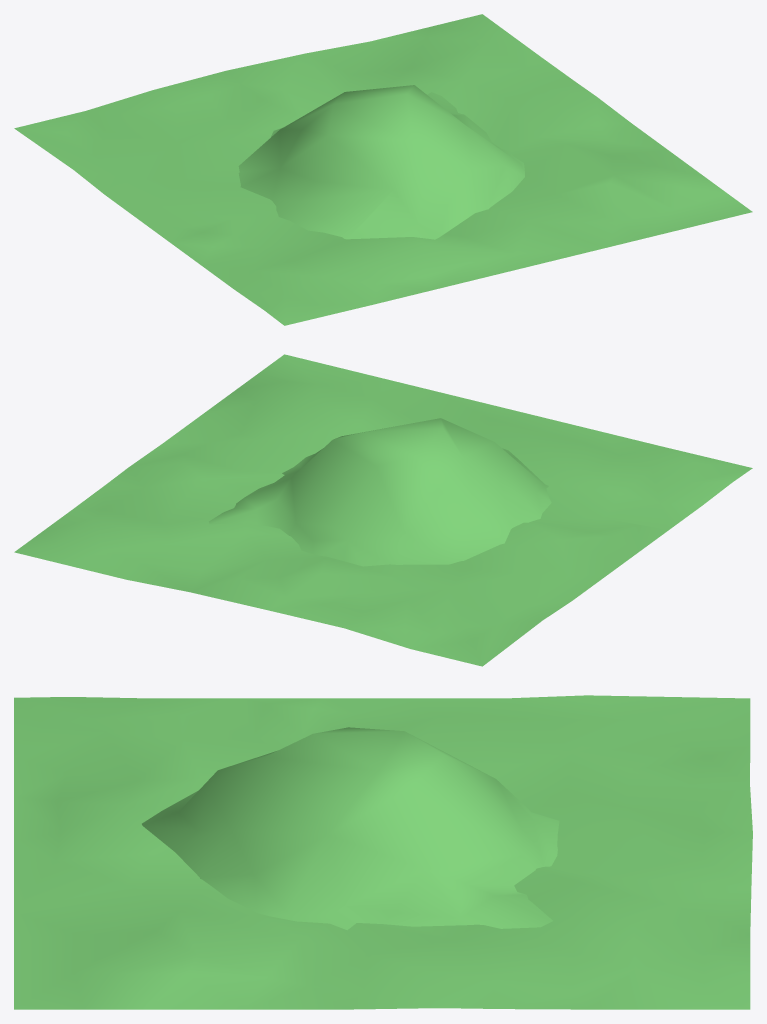
The model's file is terrain_v4.fbx.
The picture shows the model from 3 angles, top to bottom: view 1: azimuth 30°, elevation 25°; view 2: azimuth 150°, elevation 25°; view 3: azimuth 270°, elevation 25°; orthographic projection. The views are drawn at different scales.
Parts seen in each view (by area): view 1: plane-reduced, plane_Copy1-reduced; view 2: plane-reduced, plane_Copy1-reduced; view 3: plane-reduced, plane_Copy1-reduced.
Boxes of the visible parts, x1,y1,x2,y2 form: plane-reduced: [14, 14, 752, 325]; plane_Copy1-reduced: [238, 85, 524, 239]; plane-reduced: [14, 354, 752, 666]; plane_Copy1-reduced: [209, 418, 551, 566]; plane-reduced: [14, 695, 752, 1009]; plane_Copy1-reduced: [142, 727, 559, 930].
Bounding box in the file's own units: 399 × 61.81 × 400.
